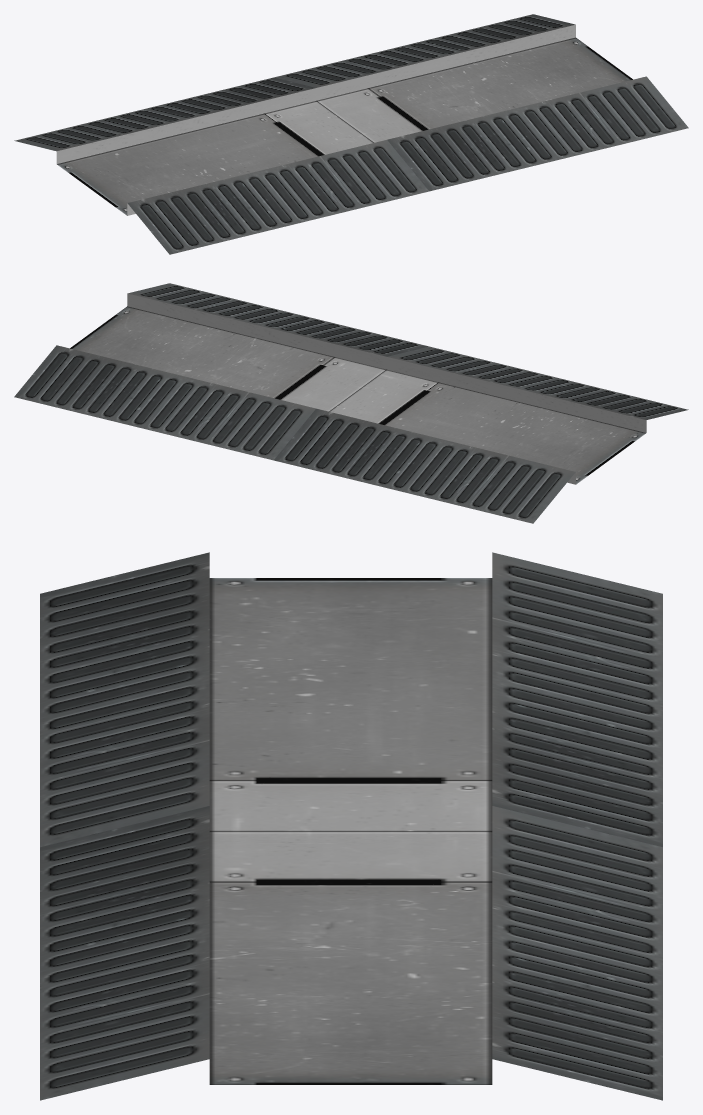
The model's file is Door_Base_01.FBX.
3 renders of one model, top to bottom at view 1: azimuth 30°, elevation 25°; view 2: azimuth 150°, elevation 25°; view 3: azimuth 270°, elevation 25°, orthographic. The views are drawn at different scales.
Visible parts, largest first — view 1: Door_Base_01; view 2: Door_Base_01; view 3: Door_Base_01.
Part boxes in pixels (left/top/right/bottom): Door_Base_01: left=14, top=14, right=688, bottom=254; Door_Base_01: left=14, top=283, right=688, bottom=523; Door_Base_01: left=40, top=552, right=662, bottom=1100.
Size of the model in its own units: 94.24 by 3.59 by 48.94.
